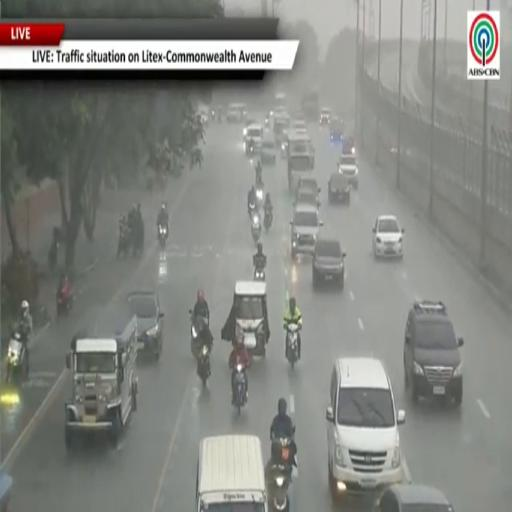car: (326, 358, 405, 500), (403, 300, 464, 405), (128, 291, 164, 360), (373, 484, 453, 511), (291, 204, 323, 259), (312, 238, 346, 289), (373, 215, 404, 258), (328, 173, 351, 204), (339, 153, 358, 188), (245, 124, 263, 155), (294, 188, 320, 206), (261, 136, 276, 164), (298, 178, 320, 197), (227, 103, 247, 122), (330, 120, 344, 143), (243, 118, 257, 140), (342, 135, 355, 154), (291, 119, 307, 134), (319, 107, 330, 125)
jeepney: (65, 313, 137, 449), (234, 281, 268, 356), (287, 133, 314, 189), (273, 112, 290, 147)
motorcycle: (268, 438, 296, 511), (6, 330, 28, 383), (269, 464, 290, 511), (190, 311, 208, 359), (285, 324, 300, 369), (234, 363, 247, 414), (197, 345, 211, 386), (57, 287, 73, 316), (117, 230, 131, 259), (252, 212, 261, 243), (158, 224, 168, 249), (264, 208, 272, 232), (256, 185, 263, 209), (254, 267, 265, 281), (248, 202, 257, 218)
truck: (65, 309, 137, 449)
